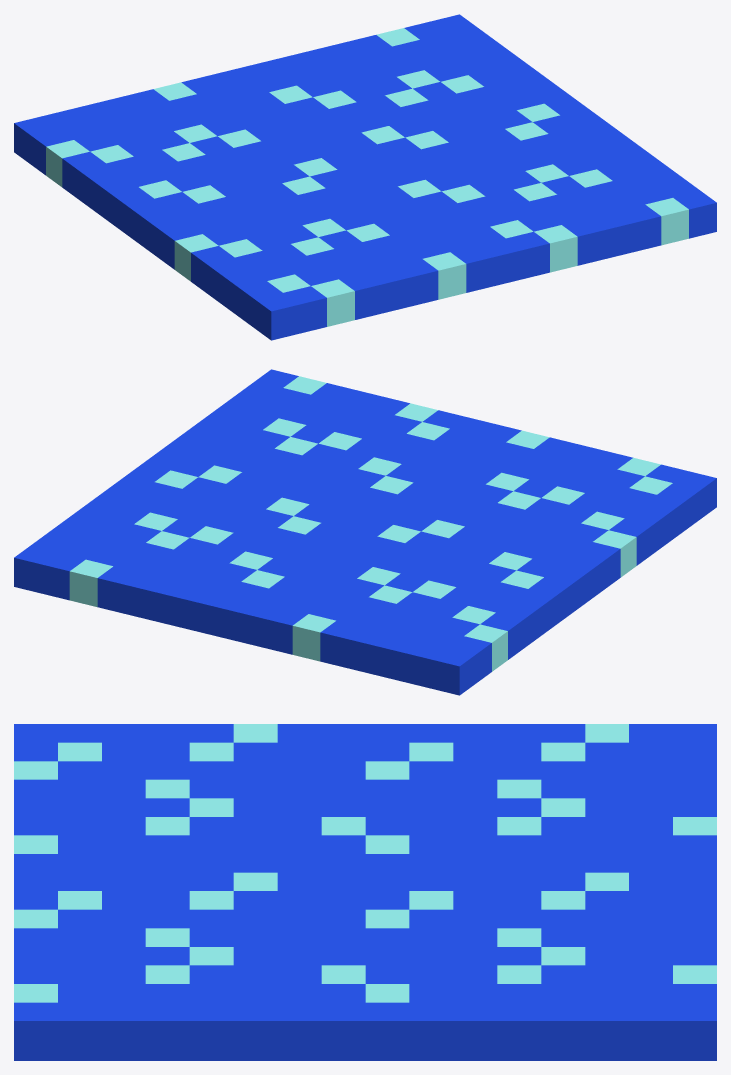
Rendered from River.fbx.
3 views of the same model, one above another, from view 1: azimuth 30°, elevation 25°; view 2: azimuth 150°, elevation 25°; view 3: azimuth 270°, elevation 25° (orthographic). The views are drawn at different scales.
Parts seen in each view (by area): view 1: River; view 2: River; view 3: River.
Part boxes in pixels (x1,y1,x2,y2): River: (14, 14, 716, 340); River: (14, 369, 716, 695); River: (14, 724, 716, 1060).
Bounding box in the file's own units: 160 × 10 × 160.
